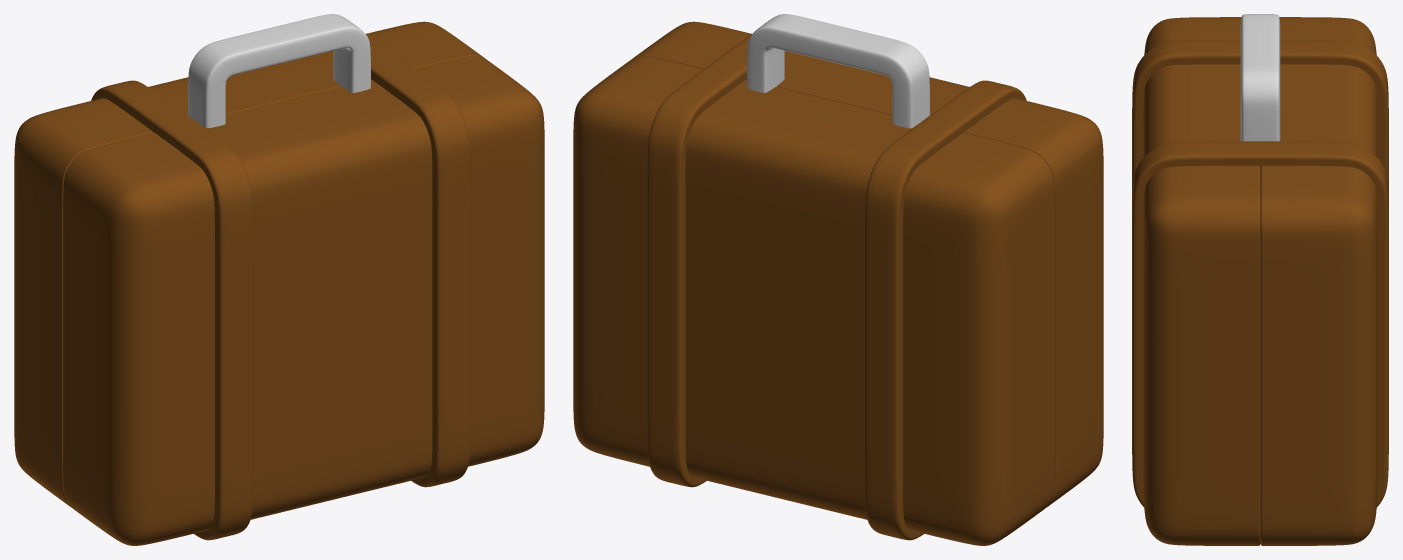
The model's file is travel.glb.
3 views of the same model, side by side, from view 1: azimuth 30°, elevation 25°; view 2: azimuth 150°, elevation 25°; view 3: azimuth 270°, elevation 25° (orthographic). The views are drawn at different scales.
Visible parts, largest first — view 1: Suitecase; view 2: Suitecase; view 3: Suitecase.
Boxes of the visible parts, left/top/right/bottom form: Suitecase: left=14, top=14, right=544, bottom=545; Suitecase: left=573, top=14, right=1103, bottom=545; Suitecase: left=1132, top=14, right=1388, bottom=545.
Size of the model in its own units: 1.89 by 1.85 by 1.01.
